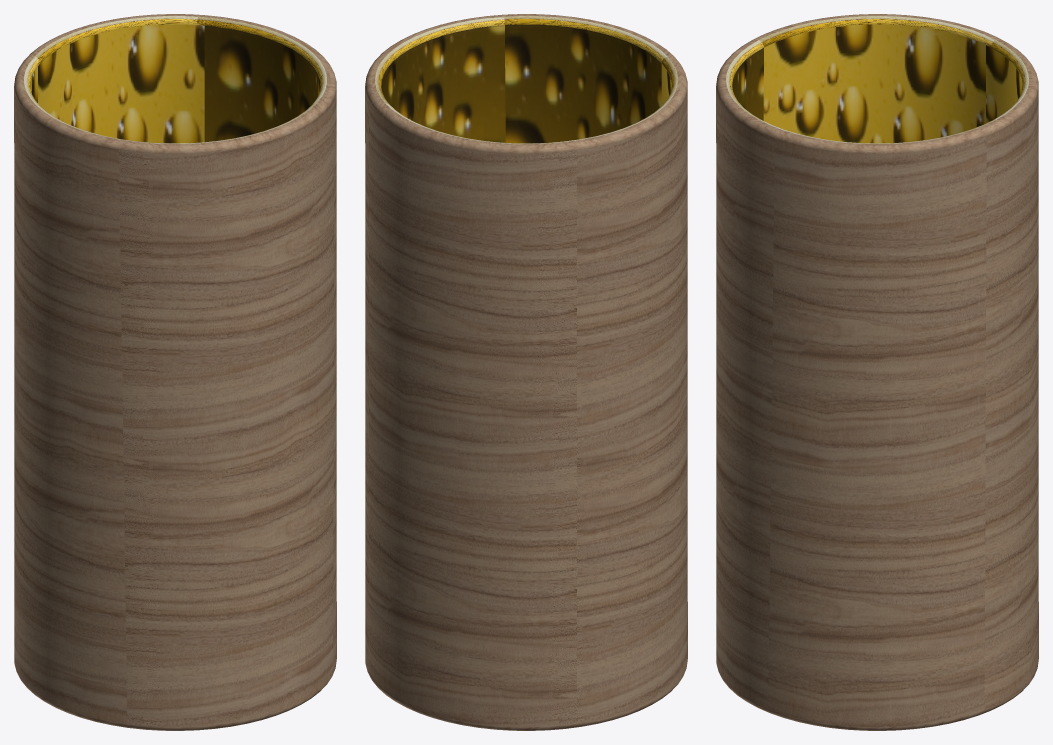
The model's file is VRCEK.obj.
The picture shows the model from 3 angles, left to right: view 1: azimuth 30°, elevation 25°; view 2: azimuth 150°, elevation 25°; view 3: azimuth 270°, elevation 25°; orthographic projection.
Parts seen in each view (by area): view 1: texture1, texture3, texture, texture4, texture2; view 2: texture1, texture3, texture, texture4, texture2; view 3: texture1, texture3, texture, texture4, texture2.
Part boxes in pixels (box(x1,y1,x2,y2)): texture1: box(14, 86, 336, 727); texture3: box(30, 24, 320, 143); texture: box(14, 14, 336, 153); texture4: box(24, 16, 326, 143); texture2: box(15, 666, 335, 730); texture1: box(365, 86, 687, 727); texture3: box(381, 24, 671, 143); texture: box(365, 14, 687, 153); texture4: box(375, 16, 677, 143); texture2: box(366, 666, 686, 730); texture1: box(716, 86, 1038, 727); texture3: box(732, 24, 1022, 143); texture: box(716, 14, 1038, 153); texture4: box(726, 16, 1028, 143); texture2: box(717, 666, 1037, 730).
Size of the model in its own units: 0.1 by 0.2 by 0.1.
Materials: 6 (5 with a texture image).
